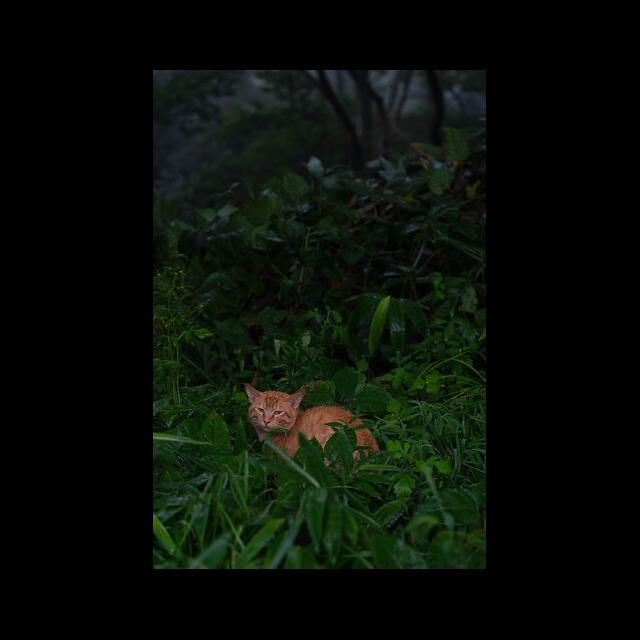animals: (245, 384, 378, 457)
